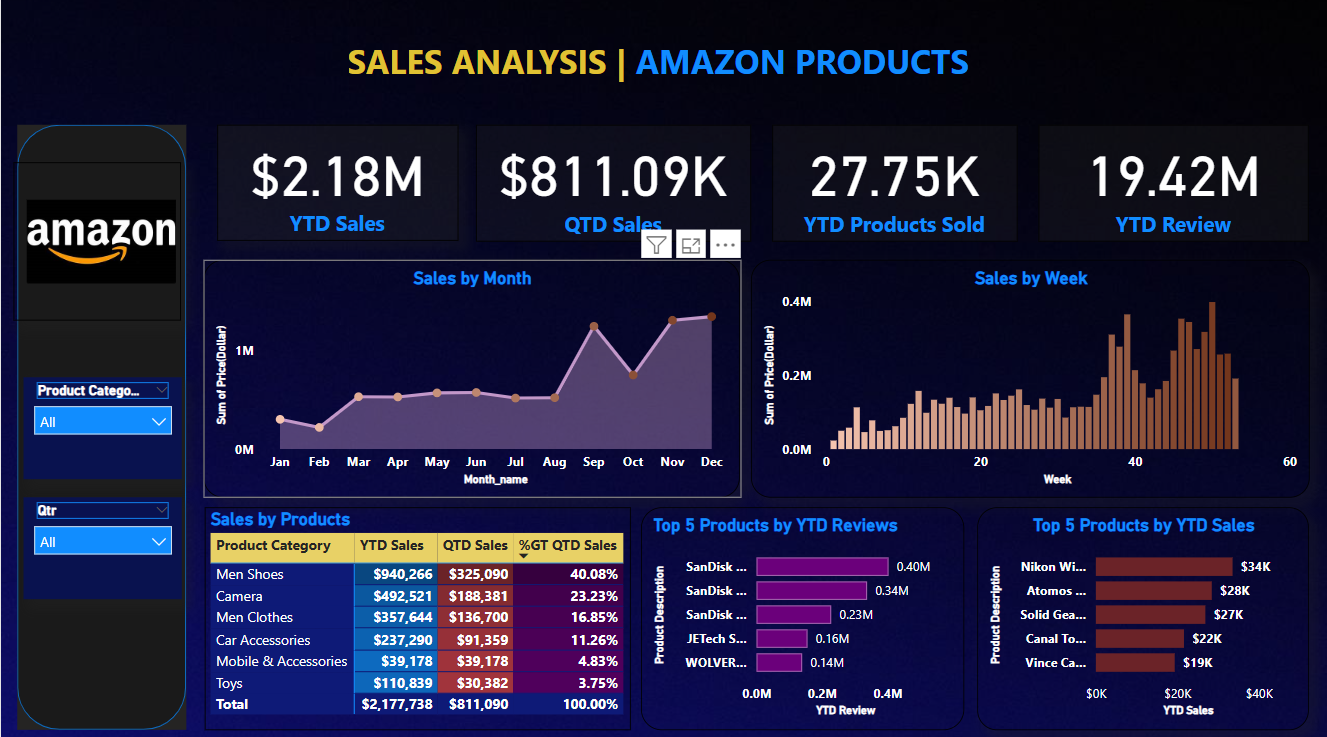

What the dashboard file says about the page in this screenshot:
{"tool":"powerbi","page":{"name":"Page 1","canvas":[1280,720],"ordinal":0},"visuals":[{"type":"shape","box":[15.9,124.1,163,584.3],"z":0},{"type":"textbox","box":[329.3,35.6,672.8,64.1],"z":1000},{"type":"card","fields":{"Values":["Amazon_Data.YTD Review"]},"box":[1001.3,124.1,261.1,112.5],"z":2000},{"type":"card","fields":{"Values":["Amazon_Data.YTD Products Sold"]},"box":[744.5,124.1,236.6,112.5],"z":3000},{"type":"card","fields":{"Values":["Amazon_Data.QTD Sales"]},"box":[458.8,124.1,265.5,112.5],"z":4000},{"type":"card","fields":{"Values":["Amazon_Data.YTD Sales"]},"box":[208.7,124.3,232.8,112.2],"z":5000},{"type":"areaChart","title":"Sales by Month","fields":{"Y":["Sum(Amazon_Data.Price(Dollar))"],"Category":["Date Table.Month_name"]},"box":[195.8,254.5,517.9,229.6],"z":6000},{"type":"columnChart","title":"Sales by Week","fields":{"Category":["Date Table.Week"],"Y":["Sum(Amazon_Data.Price(Dollar))"]},"box":[724.4,254.5,539.3,229.6],"z":7000},{"type":"pivotTable","title":"Sales by Products","fields":{"Rows":["Amazon_Data.Product Category"],"Values":["Amazon_Data.YTD Sales","Amazon_Data.QTD Sales1","Amazon_Data.QTD Sales"]},"box":[196.2,493.4,411.2,215],"z":8000},{"type":"clusteredBarChart","title":"Top 5 Products by YTD Sales","fields":{"Category":["Amazon_Data.Product Description"],"Y":["Amazon_Data.YTD Sales"]},"box":[942.1,493.4,320.3,215],"z":9000},{"type":"clusteredBarChart","title":"Top 5 Products by YTD Reviews","fields":{"Category":["Amazon_Data.Product Description"],"Y":["Amazon_Data.YTD Review"]},"box":[617.5,493.4,311.6,215],"z":10000},{"type":"slicer","fields":{"Values":["Amazon_Data.Product Category"]},"box":[21.6,367.9,152.9,98.1],"z":11000},{"type":"slicer","fields":{"Values":["Date Table.Qtr"]},"box":[21.6,483.3,152.9,98.1],"z":12000},{"type":"image","box":[12.5,160.2,162,153.1],"z":13000},{"type":"image","box":[5.3,192.2,183.3,90.8],"z":14000}]}

Visuals, with their boxes in screenshot pixels (x1, y1, x2, y2), scaled from the page's 1280x720 canvas onto the 1327x737 screenshot:
shape: bbox=[16, 127, 185, 725]
textbox: bbox=[341, 36, 1039, 102]
card - Amazon_Data.YTD Review: bbox=[1038, 127, 1309, 242]
card - Amazon_Data.YTD Products Sold: bbox=[772, 127, 1017, 242]
card - Amazon_Data.QTD Sales: bbox=[476, 127, 751, 242]
card - Amazon_Data.YTD Sales: bbox=[216, 127, 458, 242]
"Sales by Month" areaChart: bbox=[203, 261, 740, 496]
"Sales by Week" columnChart: bbox=[751, 261, 1310, 496]
"Sales by Products" pivotTable: bbox=[203, 505, 630, 725]
"Top 5 Products by YTD Sales" clusteredBarChart: bbox=[977, 505, 1309, 725]
"Top 5 Products by YTD Reviews" clusteredBarChart: bbox=[640, 505, 963, 725]
slicer - Amazon_Data.Product Category: bbox=[22, 377, 181, 477]
slicer - Date Table.Qtr: bbox=[22, 495, 181, 595]
image: bbox=[13, 164, 181, 321]
image: bbox=[5, 197, 196, 290]
